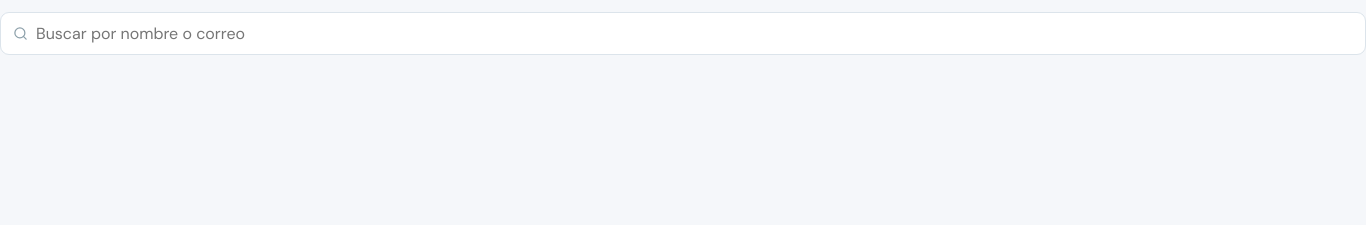
Test: ActorPicker › elegir una opción con el ratón entrega el usuario y cierra la lista
Click the dropdown named "Actor" at (694, 34), box [36, 13, 1353, 54]
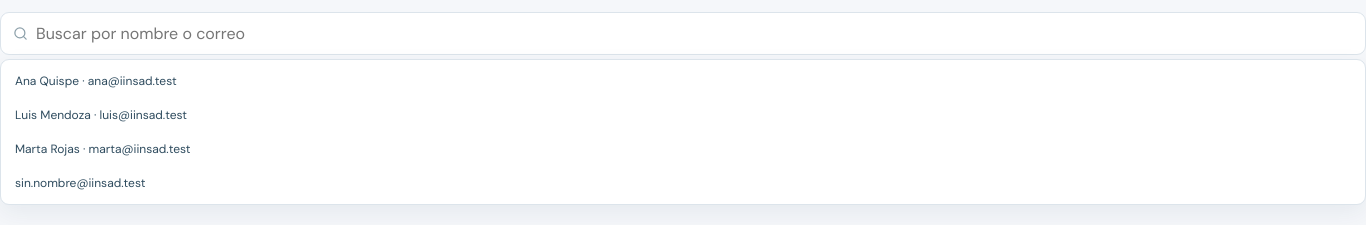
Click the option "Marta Rojas · marta@iinsad.test" at (103, 149), box [15, 141, 190, 157]
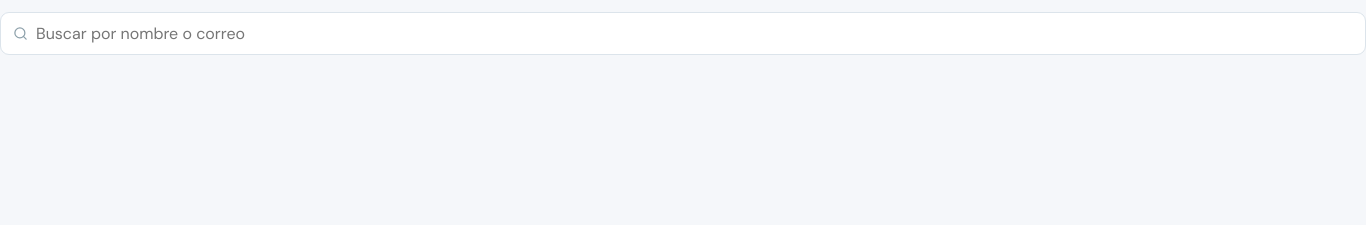
Expected: the list is gone
